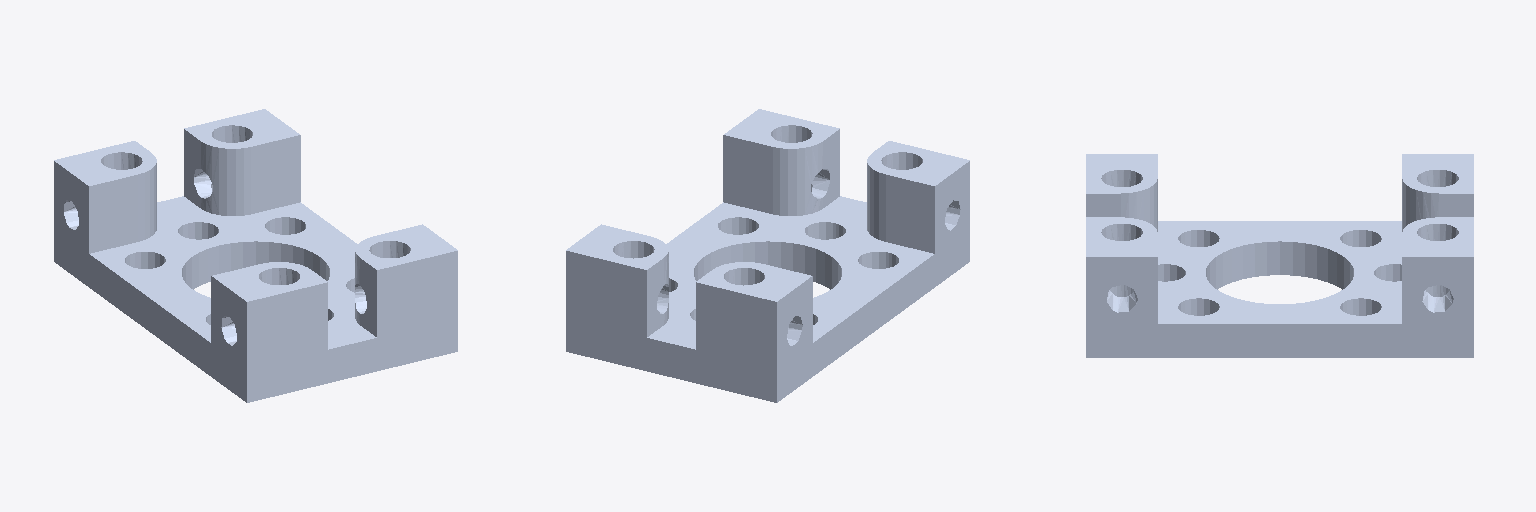
The model's file is ROB-12283.obj.
The picture shows the model from 3 angles: view 1: azimuth 30°, elevation 25°; view 2: azimuth 150°, elevation 25°; view 3: azimuth 270°, elevation 25°; orthographic projection.
Parts seen in each view (by area): view 1: mesh 1 RO; view 2: mesh 1 RO; view 3: mesh 1 RO.
Part boxes in pixels (left/top/right/bottom): mesh 1 RO: left=54, top=109, right=457, bottom=402; mesh 1 RO: left=566, top=109, right=969, bottom=402; mesh 1 RO: left=1086, top=154, right=1473, bottom=357.
Bounding box in the file's own units: 0.0208 × 0.0095 × 0.033.